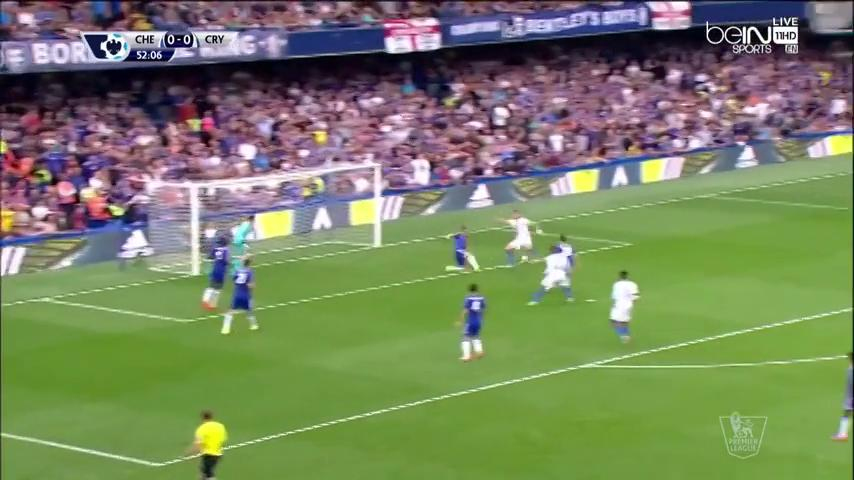football: (520, 253, 529, 263)
